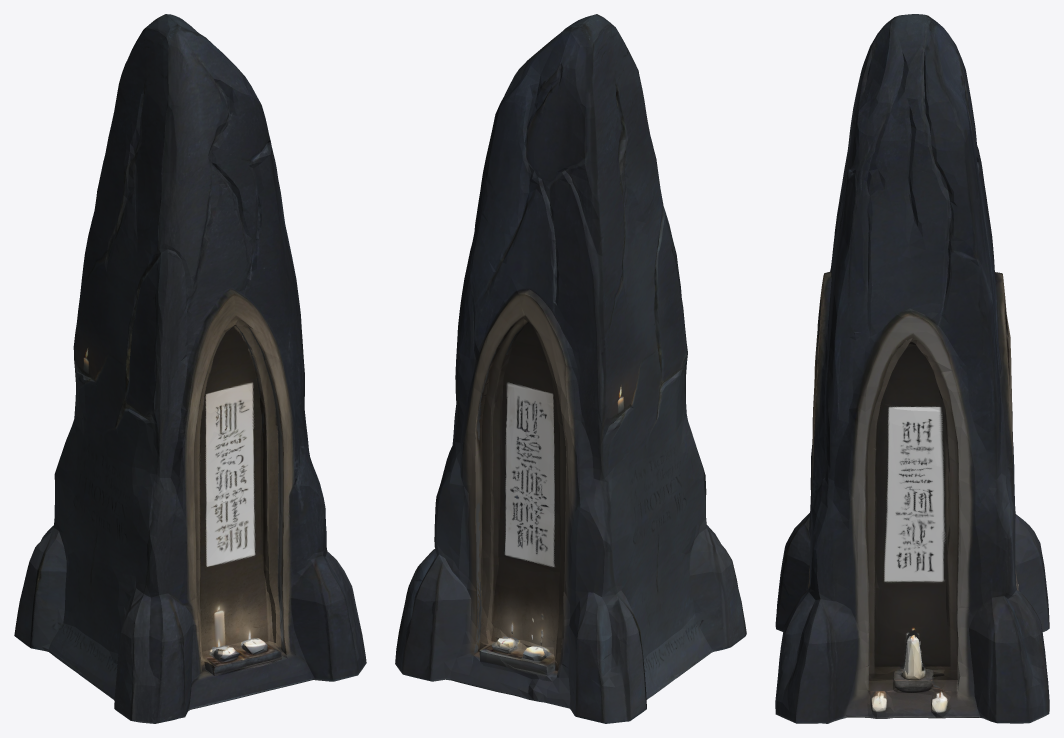
The model's file is LittleShrine.fbx.
The picture shows the model from 3 angles, left to right: view 1: azimuth 30°, elevation 25°; view 2: azimuth 150°, elevation 25°; view 3: azimuth 270°, elevation 25°; orthographic projection.
Visible parts, largest first — view 1: temp; view 2: temp; view 3: temp.
Part boxes in pixels (bbox=[...]): temp: bbox=[14, 14, 366, 723]; temp: bbox=[395, 14, 746, 723]; temp: bbox=[775, 14, 1049, 723].
Size of the model in its own units: 77.77 by 200 by 77.5.
1 material, 1 textured.
